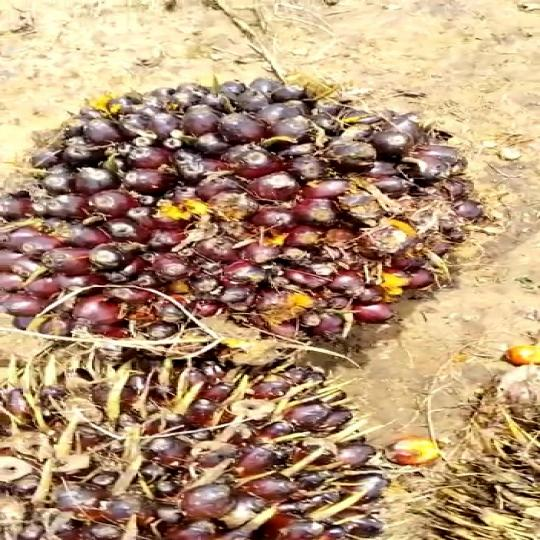kurang masak: (0, 66, 485, 366), (0, 349, 404, 540)
